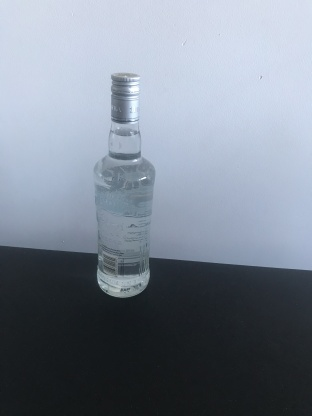nakretka: (109, 69, 141, 124)
